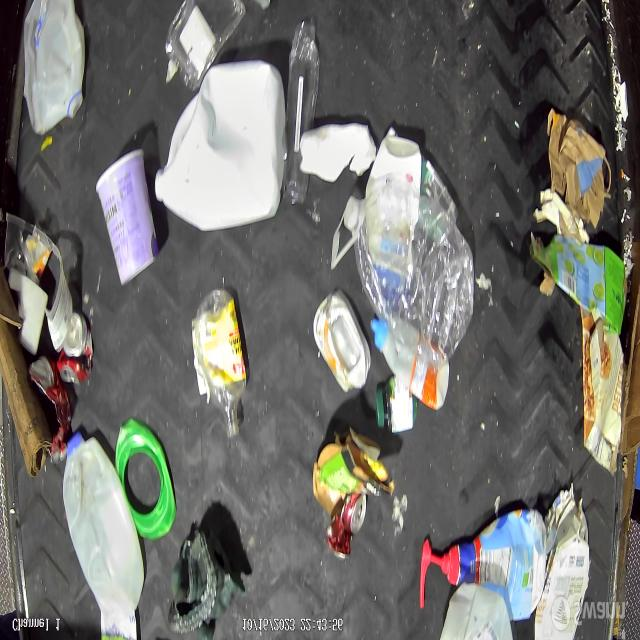can: (326, 490, 368, 560), (58, 312, 93, 384)
milk_jug: (156, 59, 285, 235), (63, 433, 146, 632), (22, 0, 86, 134)
plastic_bottle: (342, 194, 474, 372), (195, 288, 247, 439), (283, 22, 321, 205)
